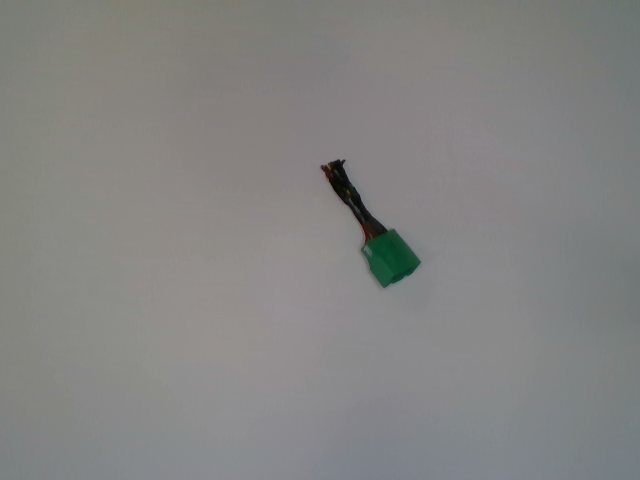green_large: (321, 159, 421, 288)
